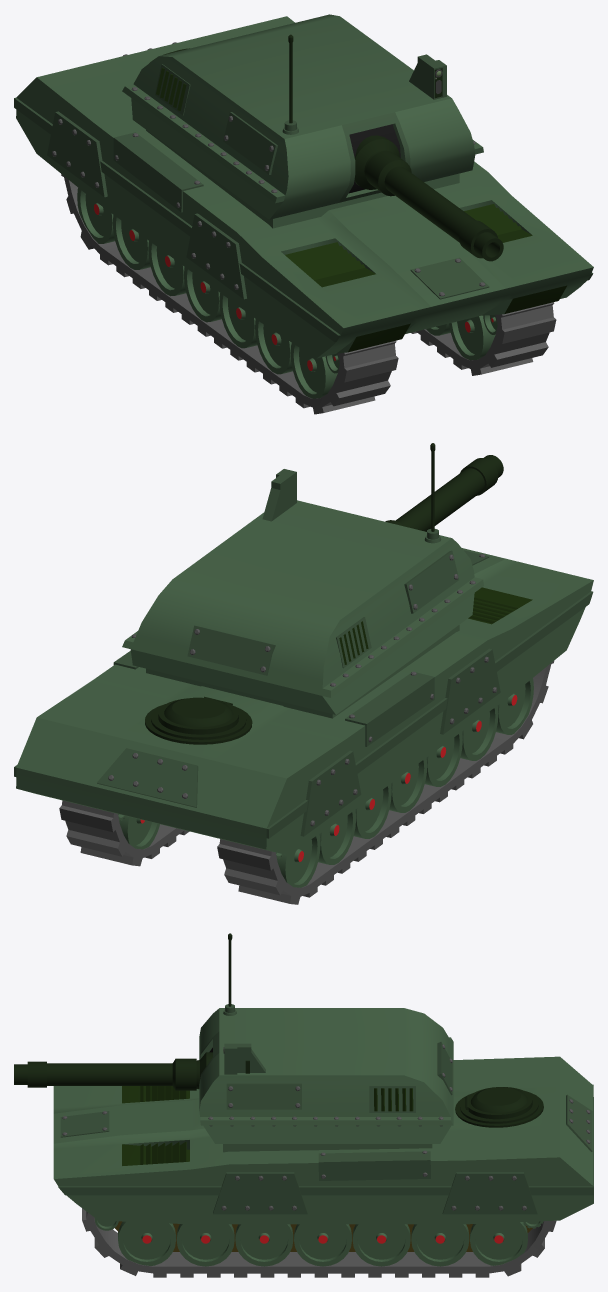
Rendered from tank.fbx.
3 views of the same model, one above another, from view 1: azimuth 30°, elevation 25°; view 2: azimuth 150°, elevation 25°; view 3: azimuth 270°, elevation 25° (orthographic). The views are drawn at different scales.
Parts seen in each view (by area): view 1: Tank Body, Tank Turret, Tank Treads, Tank Cannon; view 2: Tank Body, Tank Turret, Tank Treads, Tank Cannon; view 3: Tank Body, Tank Turret, Tank Treads, Tank Cannon.
Part boxes in pixels (x1,y1,x2,y2): Tank Body: [14, 16, 593, 358]; Tank Turret: [122, 14, 483, 228]; Tank Treads: [61, 174, 556, 414]; Tank Cannon: [354, 135, 503, 261]; Tank Body: [14, 548, 593, 854]; Tank Turret: [122, 443, 483, 718]; Tank Treads: [59, 661, 554, 904]; Tank Cannon: [385, 455, 503, 531]; Tank Body: [53, 1056, 593, 1224]; Tank Turret: [199, 933, 453, 1152]; Tank Treads: [82, 1208, 556, 1277]; Tank Cannon: [14, 1052, 212, 1090].
Bounding box in the file's own units: 362 × 439 × 845.
